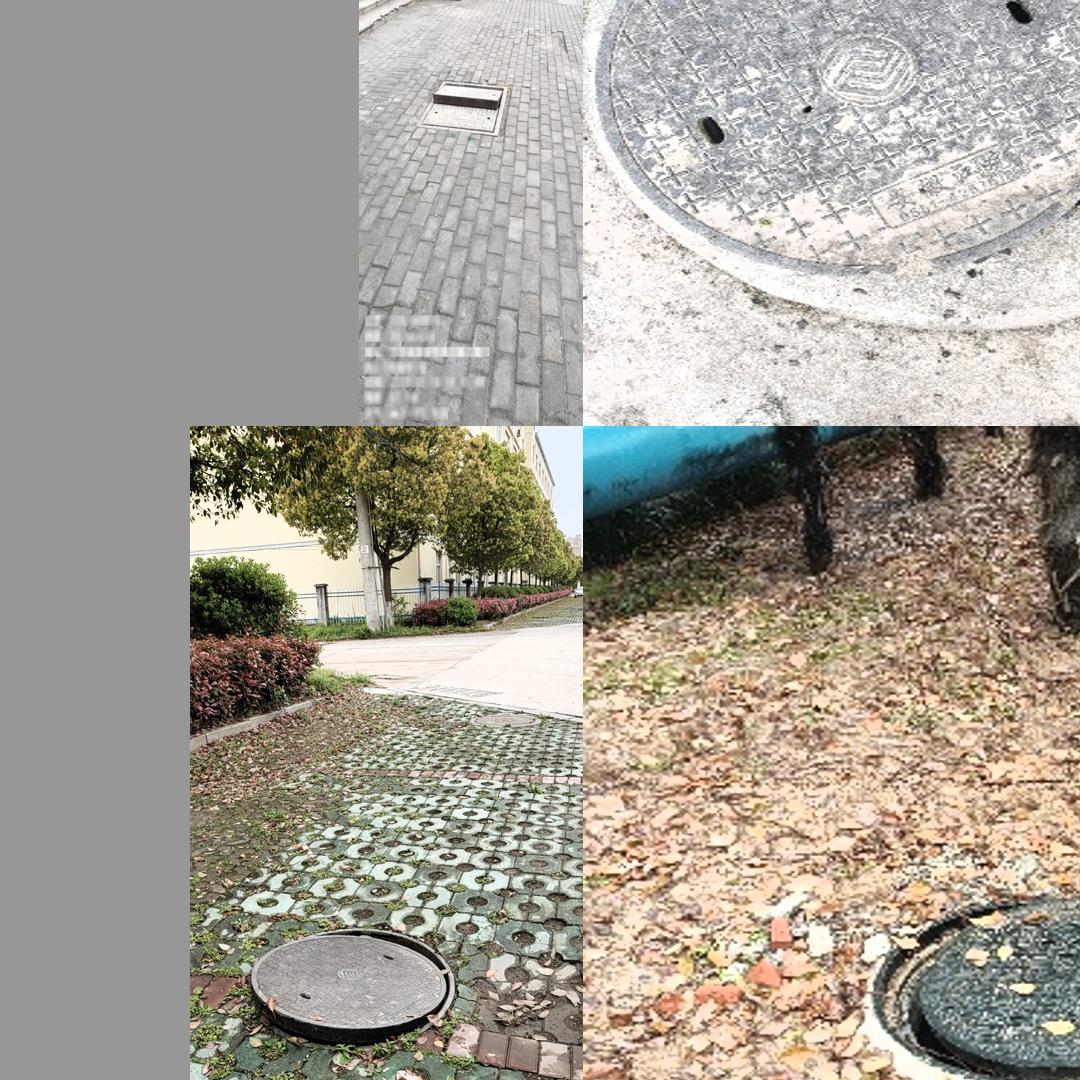uncovered: (593, 0, 1080, 273), (873, 898, 1080, 1080), (251, 931, 454, 1050), (415, 78, 506, 135)
